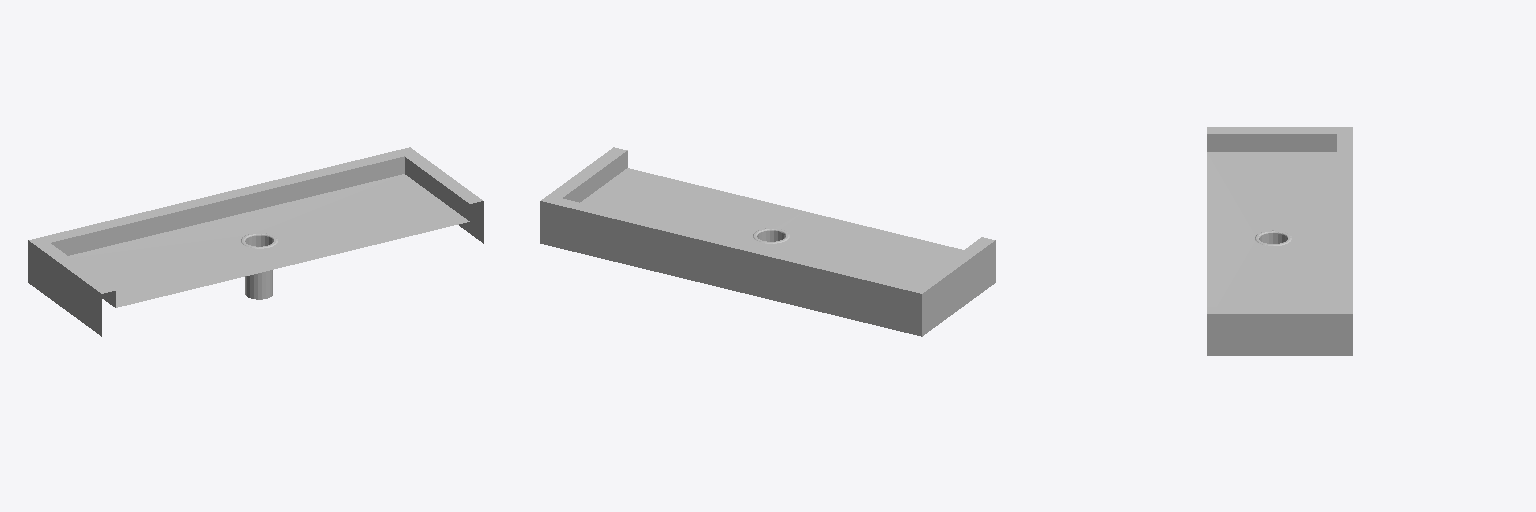
Rendered from holeEnd_mid_A_1x3.obj.
3 views of the same model, side by side, from view 1: azimuth 30°, elevation 25°; view 2: azimuth 150°, elevation 25°; view 3: azimuth 270°, elevation 25° (orthographic).
Visible parts, largest first — view 1: modelPanel2ViewSelectedSet holeEnd_mid_A_1x3, holeEnd_mid_A_1x3; view 2: modelPanel2ViewSelectedSet holeEnd_mid_A_1x3, holeEnd_mid_A_1x3; view 3: modelPanel2ViewSelectedSet holeEnd_mid_A_1x3, holeEnd_mid_A_1x3.
Part boxes in pixels (bbox=[...]): modelPanel2ViewSelectedSet holeEnd_mid_A_1x3: bbox=[37, 153, 483, 336]; holeEnd_mid_A_1x3: bbox=[28, 147, 416, 288]; modelPanel2ViewSelectedSet holeEnd_mid_A_1x3: bbox=[549, 147, 995, 330]; holeEnd_mid_A_1x3: bbox=[540, 195, 929, 336]; modelPanel2ViewSelectedSet holeEnd_mid_A_1x3: bbox=[1207, 127, 1336, 355]; holeEnd_mid_A_1x3: bbox=[1337, 127, 1352, 355].
Size of the model in its own units: 3 by 0.5318 by 1.